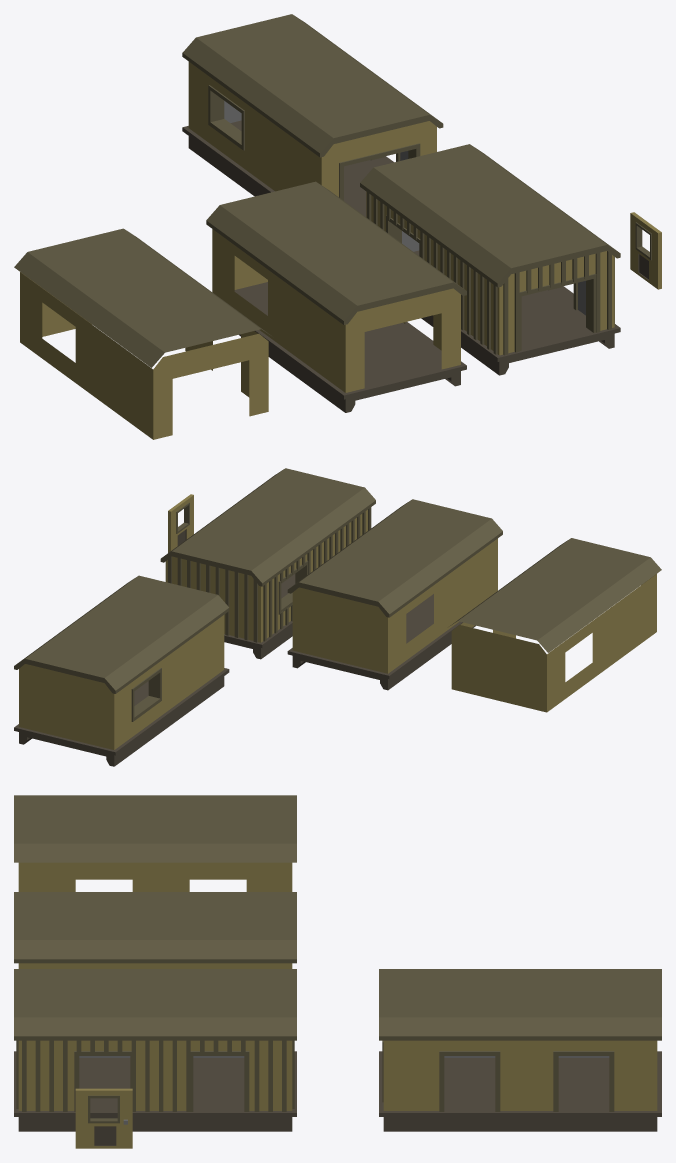
Rendered from OB_Trailer_#1.fbx.
3 renders of one model, top to bottom at view 1: azimuth 30°, elevation 25°; view 2: azimuth 150°, elevation 25°; view 3: azimuth 270°, elevation 25°, orthographic. The views are drawn at different scales.
Visible parts, largest first — view 1: Model_1(0), Model_0(0), Model_0(0).001, Model_Skybox(0), Model_0(1); view 2: Model_0(0).001, Model_1(0), Model_Skybox(0), Model_0(0), Model_0(1); view 3: Model_0(0).001, Model_0(0), Model_Skybox(0), Model_1(0), Model_0(1).
Boxes of the visible parts, x1,y1,x2,y2 form: Model_1(0): [206, 181, 466, 412]; Model_0(0): [360, 144, 620, 375]; Model_0(0).001: [182, 14, 443, 216]; Model_Skybox(0): [14, 228, 271, 439]; Model_0(1): [630, 212, 661, 289]; Model_0(0).001: [14, 575, 229, 766]; Model_1(0): [287, 499, 502, 690]; Model_Skybox(0): [449, 538, 661, 712]; Model_0(0): [160, 468, 375, 659]; Model_0(1): [168, 494, 193, 552]; Model_0(0).001: [379, 969, 661, 1131]; Model_0(0): [14, 969, 296, 1131]; Model_Skybox(0): [14, 795, 296, 891]; Model_1(0): [14, 892, 296, 968]; Model_0(1): [75, 1088, 132, 1148].
Size of the model in its own units: 2820 by 530 by 2840.
